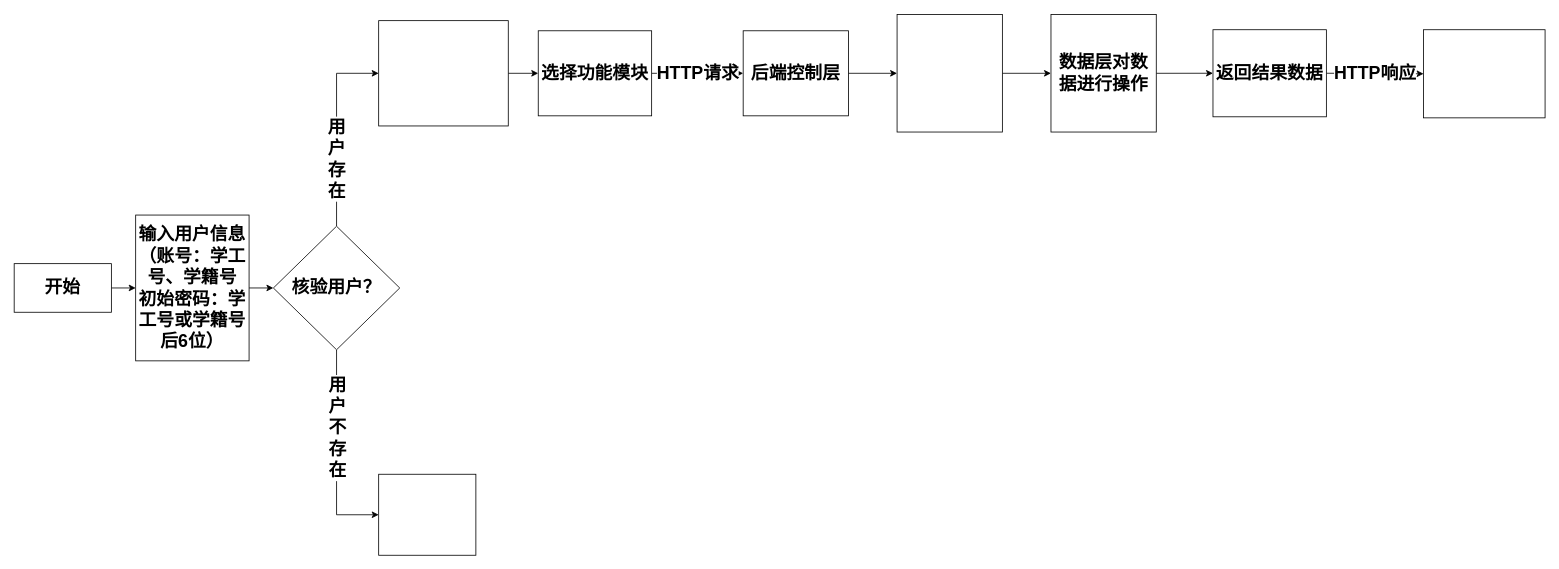
This 1559x569 diagram has some shape labels left out. Each missing label, with the box of its shape:
业务层执行相应功能代码: (896, 14, 1002, 132)
前端页面展示: (1423, 29, 1545, 118)
结束: (378, 473, 476, 555)
赋予用户相对应的系统功能适应权限: (378, 20, 508, 126)
